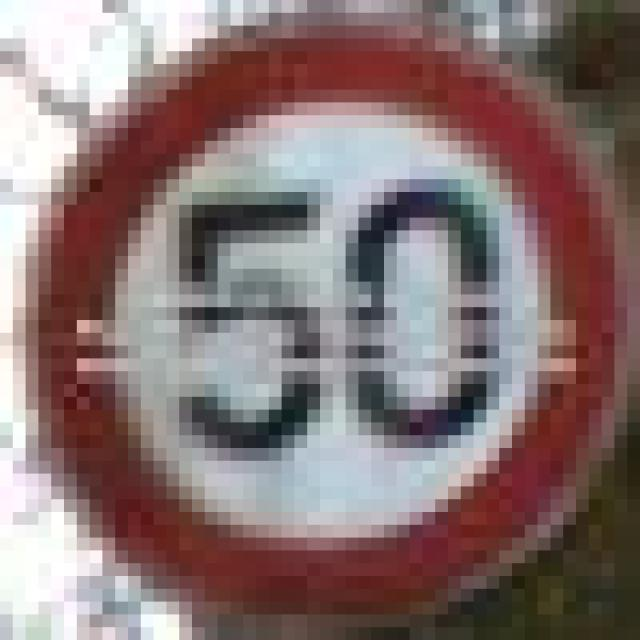speed_limit_30: (26, 26, 614, 588)
